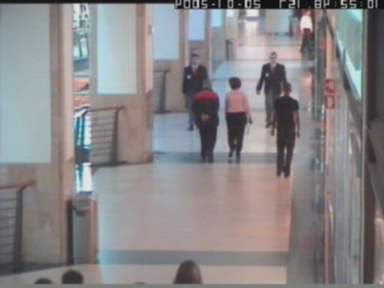person: (271, 84, 300, 179), (224, 77, 252, 157), (192, 80, 219, 162), (256, 52, 285, 127), (182, 53, 208, 131), (173, 260, 203, 284), (298, 9, 312, 54)
